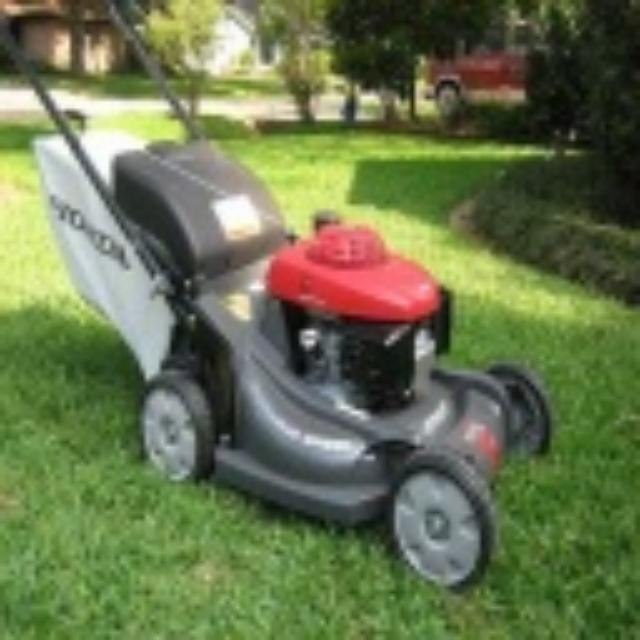Rotary-Mower: (0, 0, 550, 590)
